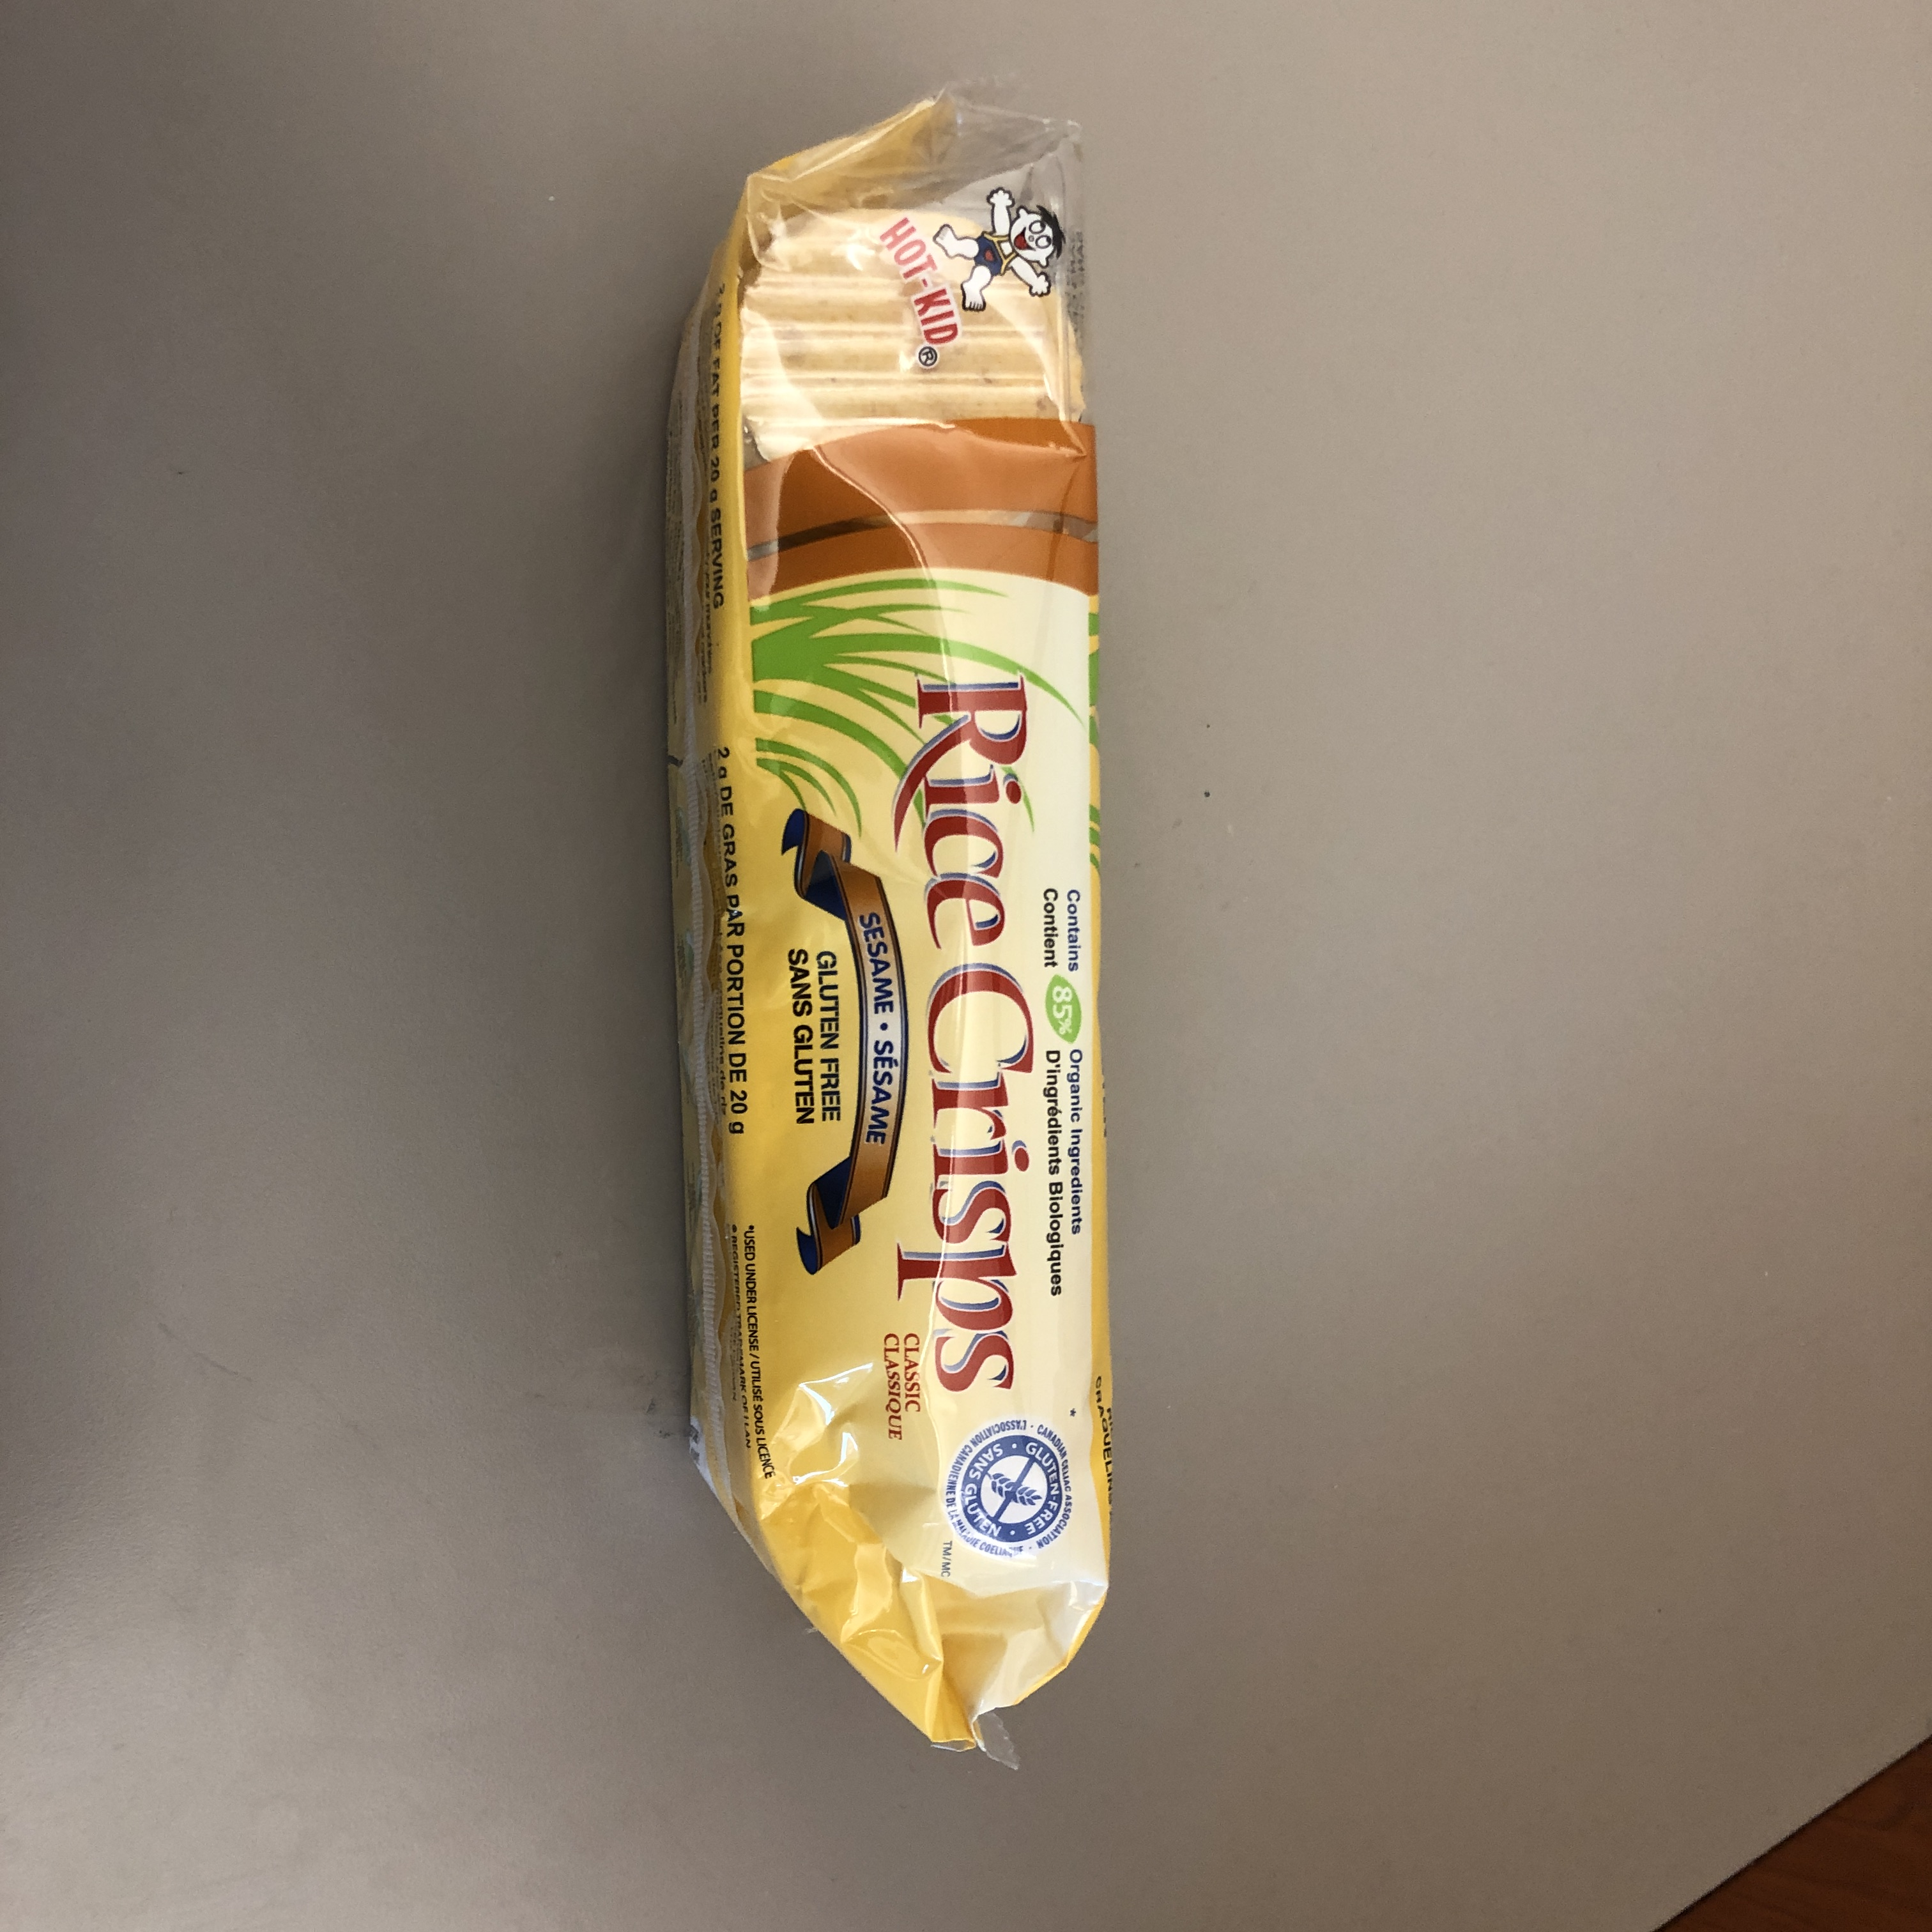hot_kid_rice_crisps_sesame: (100, 801, 1758, 1262)
